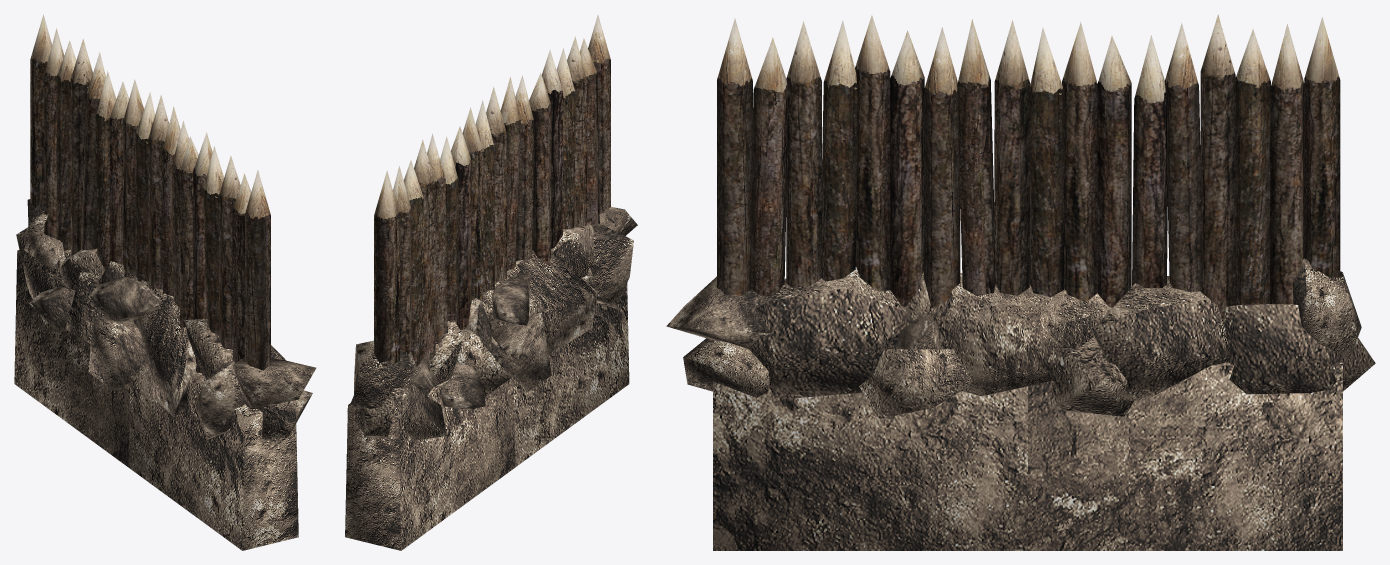
The model's file is palisade_rocks_straight.dae.
3 views of the same model, side by side, from view 1: azimuth 30°, elevation 25°; view 2: azimuth 150°, elevation 25°; view 3: azimuth 270°, elevation 25° (orthographic). The views are drawn at different scales.
Visible parts, largest first — view 1: Straight; view 2: Straight; view 3: Straight.
Part boxes in pixels (x1,y1,x2,y2): Straight: (14,14,316,550); Straight: (345,15,637,550); Straight: (666,14,1375,550).
Size of the model in its own units: 3.05 by 11.71 by 9.37.
